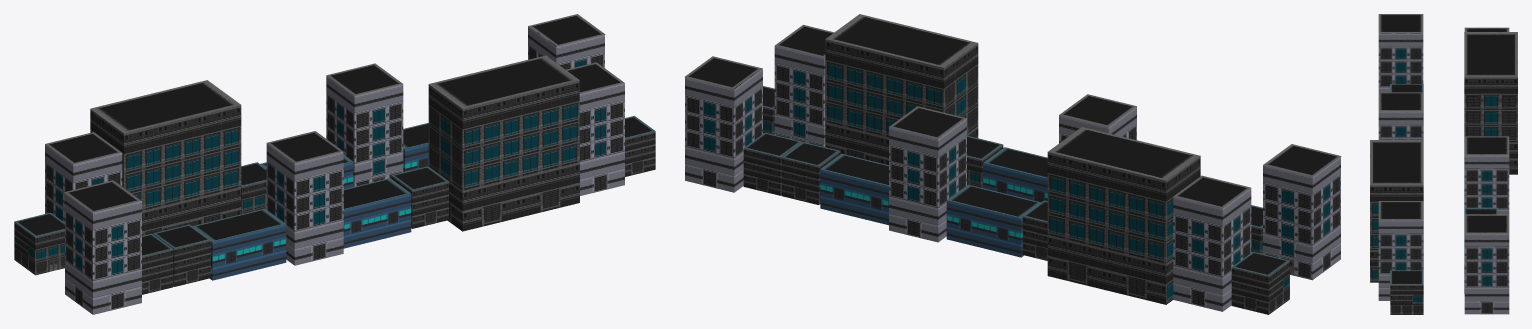
Rendered from buildingssurround.glb.
3 renders of one model, left to right at view 1: azimuth 30°, elevation 25°; view 2: azimuth 150°, elevation 25°; view 3: azimuth 270°, elevation 25°, orthographic. The views are drawn at different scales.
Parts seen in each view (by area): view 1: 4story_top002, 4story_btm002, 4story_top001.001, 4story_top, 4story_top.003, 4story_top.002, 4story_btm.002, roof003, roof003.001, 4story_top002.001, 4story_top001, 4story_btm001 (+31 smaller); view 2: 4story_top002, 4story_top001.001, 4story_btm001.001, 4story_top.005, 4story_top.004, 4story_top.002, 4story_top.003, roof003, roof003.001, 4story_top001, 4story_top002.001, 4story_btm002.001 (+30 smaller); view 3: 4story_top002.001, roof003, roof003.001, 4story_top.004, 4story_top.002, 4story_top.003, 4story_btm.004, 4story_top.001, 4story_top, 4story_top001, 2story.003, 4story_btm002.001 (+13 smaller).
Part boxes in pixels (left/top/right/bottom): 4story_top002: left=428, top=84, right=521, bottom=169; 4story_btm002: left=428, top=146, right=521, bottom=231; 4story_top001.001: left=90, top=109, right=182, bottom=192; 4story_top: left=266, top=143, right=343, bottom=214; 4story_top.003: left=326, top=75, right=403, bottom=146; 4story_top.002: left=65, top=180, right=141, bottom=263; 4story_btm.002: left=65, top=243, right=141, bottom=314; roof003: left=429, top=55, right=579, bottom=108; roof003.001: left=90, top=80, right=240, bottom=133; 4story_top002.001: left=182, top=105, right=241, bottom=180; 4story_top001: left=521, top=80, right=579, bottom=155; 4story_btm001: left=521, top=141, right=579, bottom=216; 4story_top002: left=884, top=43, right=978, bottom=119; 4story_top001.001: left=1107, top=156, right=1200, bottom=242; 4story_btm001.001: left=1107, top=228, right=1173, bottom=304; 4story_top.005: left=1173, top=188, right=1251, bottom=259; 4story_top.004: left=685, top=68, right=762, bottom=140; 4story_top.002: left=1263, top=144, right=1340, bottom=228; 4story_top.003: left=889, top=118, right=966, bottom=190; roof003: left=826, top=14, right=977, bottom=67; roof003.001: left=1048, top=127, right=1199, bottom=180; 4story_top001: left=825, top=39, right=884, bottom=115; 4story_top002.001: left=1047, top=152, right=1106, bottom=228; 4story_btm002.001: left=1047, top=214, right=1106, bottom=290; 4story_top002.001: left=1464, top=77, right=1517, bottom=125; roof003: left=1370, top=140, right=1423, bottom=185; roof003.001: left=1464, top=32, right=1517, bottom=77; 4story_top.004: left=1464, top=214, right=1509, bottom=273; 4story_top.002: left=1378, top=33, right=1423, bottom=73; 4story_top.003: left=1464, top=155, right=1509, bottom=195; 4story_btm.004: left=1464, top=274, right=1509, bottom=314; 4story_top.001: left=1378, top=220, right=1423, bottom=260; 4story_top: left=1378, top=111, right=1423, bottom=139; 4story_top001: left=1370, top=185, right=1423, bottom=233; 2story.003: left=1390, top=284, right=1423, bottom=314; 4story_btm002.001: left=1464, top=126, right=1517, bottom=174.
Bounding box in the file's own units: 320 × 65.66 × 90.17.
8 materials, 8 textured.
